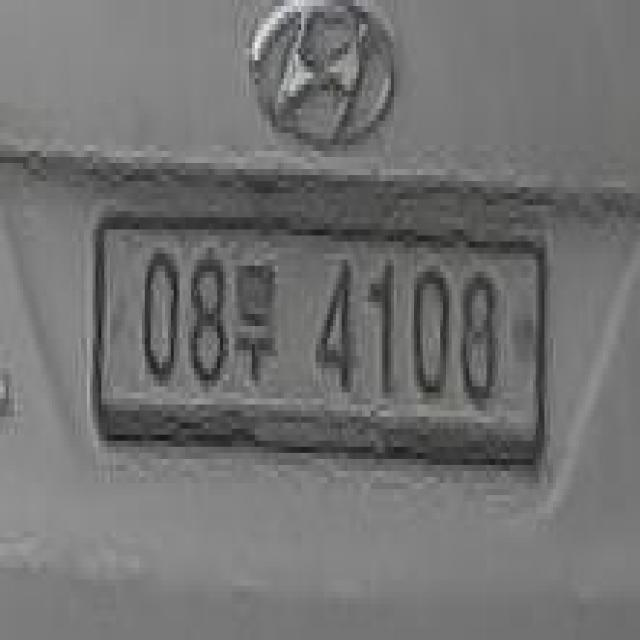illegal_plate: (90, 200, 549, 488)
